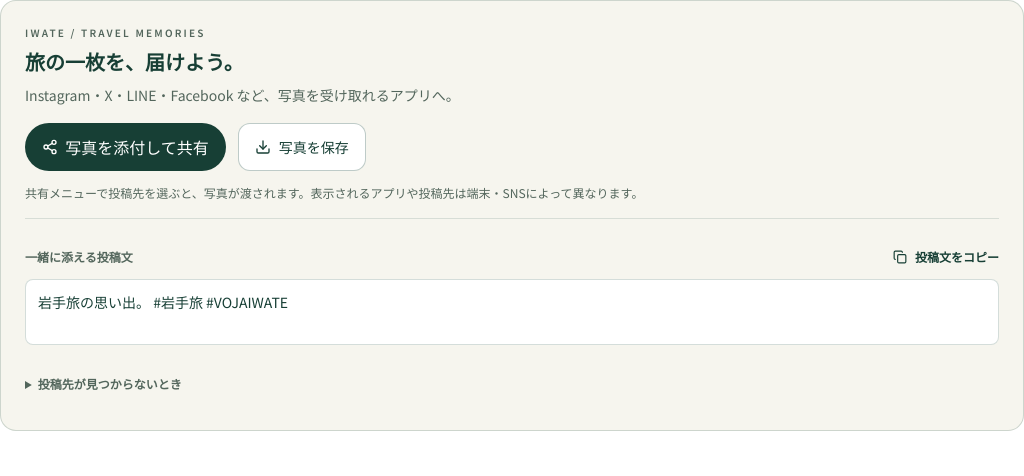
PhotoSharePanel › prevents repeated taps and recovers from cancellation
The width and height of the screenshot is (1024, 476).
Click the button "写真を添付して共有" at (125, 147), box [25,123,226,171]
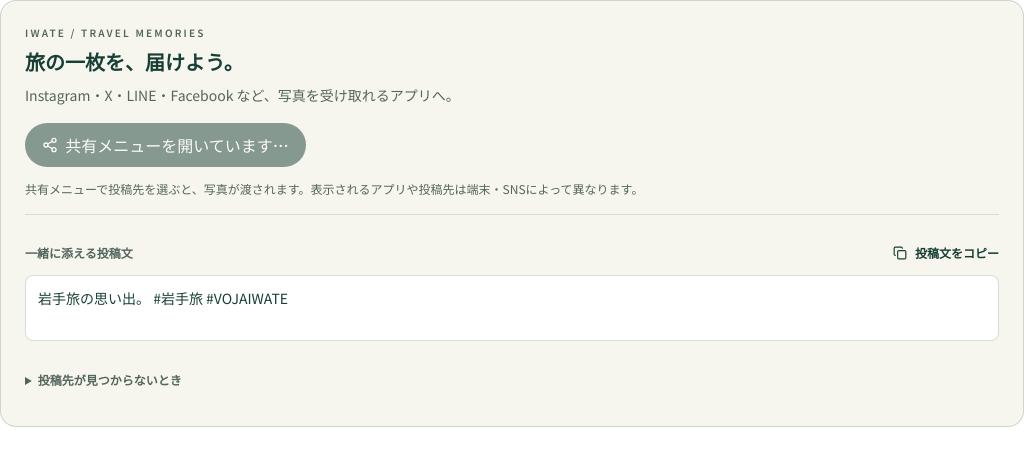
Click the button named "写真を添付して共有" at (165, 145), box [25,123,306,167]
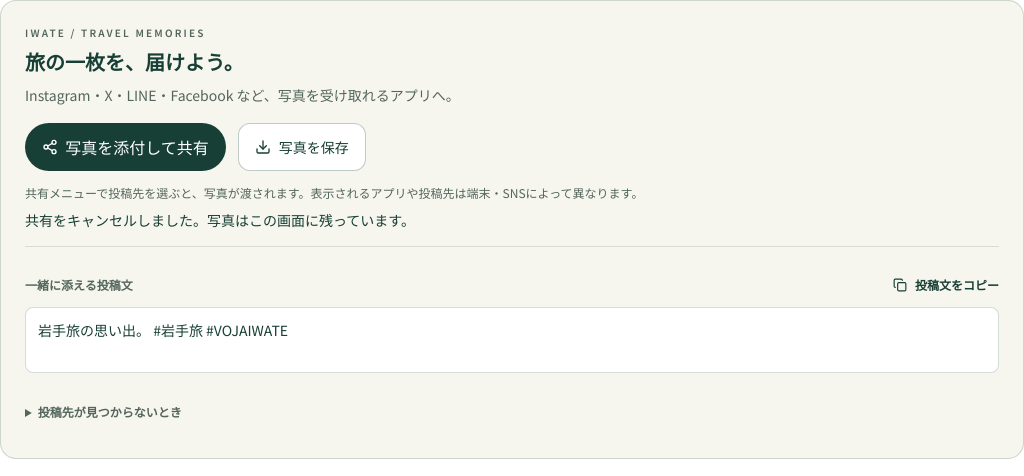
Result: the message shows "共有をキャンセルしました" at [25,210,415,230]
Result: the button "写真を添付して共有" is enabled at [25,123,226,171]
